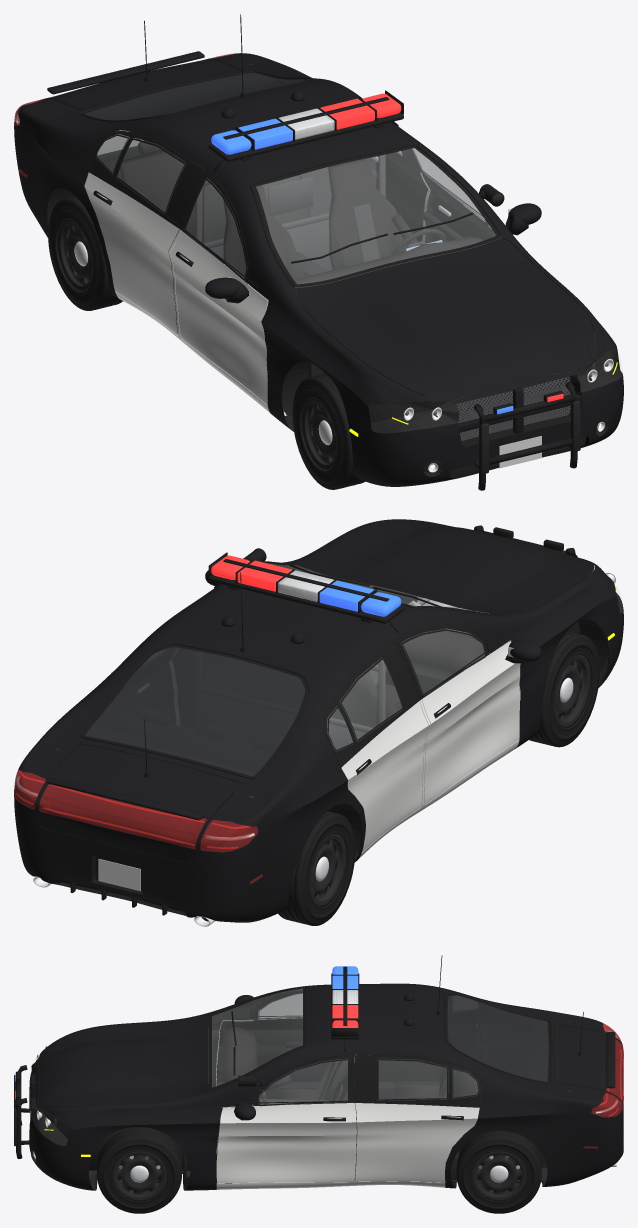
Rendered from patrolSedan-lod0.glb.
3 views of the same model, one above another, from view 1: azimuth 30°, elevation 25°; view 2: azimuth 150°, elevation 25°; view 3: azimuth 270°, elevation 25° (orthographic). The views are drawn at different scales.
Visible parts, largest first — view 1: Body, HoodSkin, Windscreen, Panel_RR, Panel_FR, Seat_FL_Back, SeatMesh_Rear_Back, RearWindow, Wheel_FR_Tyre, TrunkSkin, Wheel_RR_Tyre, Window_FR (+31 smaller); view 2: Body, RearWindow, HoodSkin, Panel_FR, Panel_RR, TrunkSkin, Lamp_TailLid, Wheel_RR_Tyre, Lamp_TailLid_Housing, Window_FR, Wheel_FR_Tyre, Window_RR (+25 smaller); view 3: Body, HoodSkin, Panel_FL, Panel_RL, Windscreen, RearWindow, Wheel_FL_Tyre, Wheel_RL_Tyre, Window_FL, Panel_FR, TrunkSkin, Window_RL (+20 smaller).
Part boxes in pixels (x1=…): Body: x1=14, y1=53, x2=623, y2=486; HoodSkin: x1=296, y1=237, x2=594, y2=404; Windscreen: x1=251, y1=145, x2=501, y2=287; Panel_RR: x1=84, y1=130, x2=204, y2=334; Panel_FR: x1=170, y1=173, x2=268, y2=404; Seat_FL_Back: x1=328, y1=158, x2=407, y2=269; SeatMesh_Rear_Back: x1=120, y1=150, x2=307, y2=243; RearWindow: x1=82, y1=72, x2=306, y2=120; Wheel_FR_Tyre: x1=292, y1=373, x2=365, y2=489; TrunkSkin: x1=47, y1=59, x2=241, y2=109; Wheel_RR_Tyre: x1=48, y1=196, x2=122, y2=310; Window_FR: x1=185, y1=178, x2=246, y2=280; Body: x1=14, y1=519, x2=623, y2=922; RearWindow: x1=82, y1=645, x2=307, y2=777; HoodSkin: x1=296, y1=519, x2=594, y2=614; Panel_FR: x1=397, y1=625, x2=520, y2=803; Panel_RR: x1=323, y1=642, x2=428, y2=851; TrunkSkin: x1=37, y1=744, x2=241, y2=863; Lamp_TailLid: x1=39, y1=784, x2=206, y2=849; Wheel_RR_Tyre: x1=278, y1=811, x2=355, y2=925; Lamp_TailLid_Housing: x1=39, y1=784, x2=206, y2=848; Window_FR: x1=402, y1=629, x2=485, y2=694; Wheel_FR_Tyre: x1=529, y1=631, x2=599, y2=747; Window_RR: x1=340, y1=658, x2=403, y2=741; Body: x1=29, y1=983, x2=623, y2=1190; HoodSkin: x1=35, y1=1015, x2=208, y2=1109; Panel_FL: x1=216, y1=1055, x2=353, y2=1183; Panel_RL: x1=355, y1=1054, x2=481, y2=1182; Windscreen: x1=208, y1=987, x2=305, y2=1089; RearWindow: x1=445, y1=994, x2=550, y2=1082; Wheel_FL_Tyre: x1=97, y1=1127, x2=181, y2=1213; Wheel_RL_Tyre: x1=456, y1=1131, x2=541, y2=1213; Window_FL: x1=258, y1=1059, x2=349, y2=1105; Panel_FR: x1=216, y1=992, x2=351, y2=1081; TrunkSkin: x1=557, y1=1024, x2=623, y2=1115; Window_RL: x1=377, y1=1059, x2=448, y2=1100.
Size of the model in its own units: 2.41 by 2 by 5.17.
